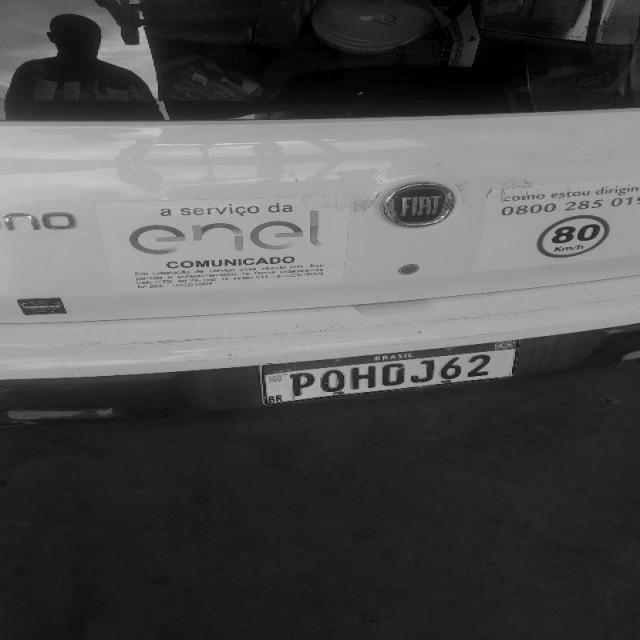placa_mercosul: (267, 339, 519, 404)
